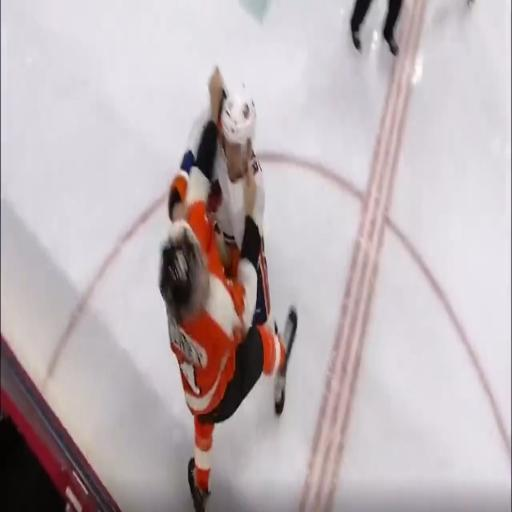violencia: (149, 47, 302, 510)
